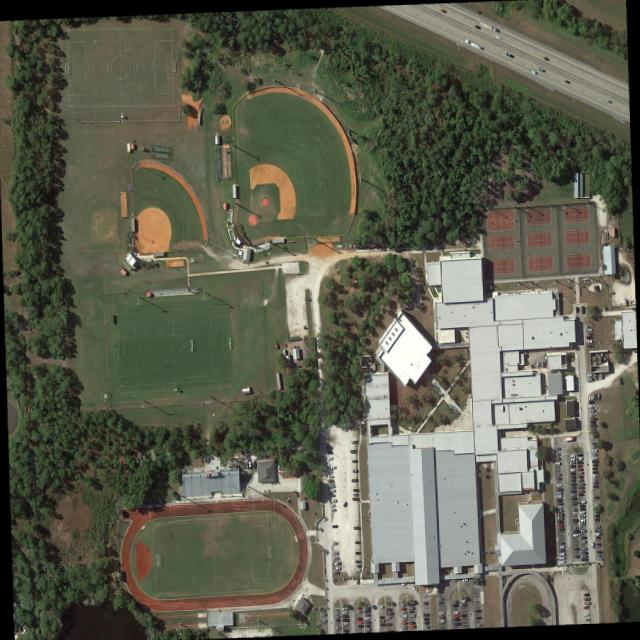large-vehicle: (463, 36, 483, 50), (479, 19, 498, 31), (564, 435, 574, 440), (333, 560, 341, 564)
small-vehicle: (505, 50, 514, 57), (529, 67, 536, 73), (604, 97, 611, 103), (349, 438, 357, 443), (563, 77, 569, 83), (411, 584, 417, 590), (328, 497, 335, 502), (538, 66, 545, 71), (333, 564, 340, 569), (364, 607, 371, 612), (582, 595, 590, 599), (349, 448, 357, 452), (245, 460, 249, 468), (252, 459, 256, 467), (617, 375, 621, 383), (386, 610, 394, 614), (441, 7, 447, 12), (559, 554, 565, 559), (453, 598, 459, 603), (554, 455, 560, 460), (583, 611, 589, 616), (342, 500, 347, 506), (496, 33, 501, 39), (543, 55, 549, 60), (401, 612, 407, 617), (437, 595, 443, 600), (334, 609, 340, 614), (571, 499, 578, 503), (572, 517, 579, 521), (572, 524, 579, 528), (573, 528, 580, 532), (576, 455, 583, 459), (576, 459, 583, 463), (452, 609, 459, 613), (453, 616, 460, 620), (453, 620, 460, 624), (450, 577, 457, 581), (555, 486, 562, 490), (556, 497, 563, 501), (582, 604, 589, 608), (581, 549, 588, 553), (580, 534, 587, 538), (580, 538, 587, 542), (592, 494, 599, 498), (581, 556, 588, 560), (590, 440, 597, 444), (590, 443, 597, 447), (591, 454, 598, 458), (460, 612, 467, 616), (328, 483, 335, 487), (351, 467, 358, 471), (351, 477, 358, 481), (352, 487, 359, 491), (352, 495, 359, 499), (354, 558, 361, 562), (331, 523, 338, 527), (587, 376, 594, 380), (401, 623, 408, 627), (423, 619, 430, 623), (332, 555, 339, 559), (379, 621, 386, 625), (356, 615, 363, 619), (599, 371, 603, 377), (570, 484, 576, 488), (570, 474, 576, 478), (570, 470, 576, 474), (570, 466, 576, 470), (569, 459, 575, 463), (569, 456, 575, 460), (569, 452, 575, 456), (570, 488, 576, 492), (571, 495, 577, 499), (571, 506, 577, 510), (572, 532, 578, 536), (574, 553, 580, 557), (577, 463, 583, 467), (558, 525, 564, 529), (459, 598, 465, 602), (475, 614, 481, 618), (555, 482, 561, 486), (556, 493, 562, 497), (557, 515, 563, 519), (577, 473, 583, 477), (594, 516, 600, 520), (594, 523, 600, 527), (595, 531, 601, 535), (590, 539, 593, 547), (595, 534, 601, 538), (583, 599, 589, 603), (584, 616, 590, 620), (578, 484, 584, 488), (578, 491, 584, 495), (579, 502, 585, 506), (579, 509, 585, 513), (579, 517, 585, 521), (580, 527, 586, 531), (581, 545, 587, 549), (591, 447, 597, 451), (591, 451, 597, 455), (592, 458, 598, 462), (592, 462, 598, 466), (592, 476, 598, 480), (593, 483, 599, 487), (438, 617, 444, 621), (590, 422, 596, 426), (590, 433, 596, 437), (327, 449, 333, 453), (327, 473, 333, 477), (589, 411, 595, 415), (354, 539, 360, 543), (356, 563, 362, 567), (590, 415, 596, 419), (585, 323, 591, 327), (249, 460, 252, 468), (586, 330, 592, 334), (586, 334, 592, 338), (587, 342, 593, 346), (386, 606, 392, 610), (409, 623, 415, 627), (409, 612, 415, 616), (401, 609, 407, 613), (400, 601, 406, 605), (379, 614, 385, 618), (423, 616, 429, 620), (423, 623, 429, 627), (438, 585, 444, 589), (438, 610, 444, 614), (386, 621, 392, 625), (333, 550, 339, 554), (342, 617, 348, 621), (319, 607, 325, 611), (334, 606, 340, 610), (335, 624, 341, 628), (342, 620, 348, 624), (342, 613, 348, 617), (364, 626, 370, 630), (363, 612, 371, 615), (363, 615, 369, 619), (357, 619, 363, 623), (356, 608, 362, 612), (364, 604, 370, 608), (569, 492, 576, 495), (573, 546, 580, 549), (576, 452, 583, 455), (554, 446, 561, 449), (594, 527, 601, 530), (593, 502, 600, 505), (581, 553, 588, 556), (353, 525, 360, 528), (585, 327, 592, 330), (542, 359, 545, 366), (536, 359, 539, 366), (594, 392, 597, 399), (330, 507, 337, 510), (379, 618, 386, 621), (364, 619, 371, 622), (571, 481, 576, 485), (559, 551, 564, 555), (559, 547, 564, 551), (462, 576, 467, 580), (557, 504, 562, 508), (596, 509, 601, 513), (592, 465, 597, 469), (453, 602, 458, 606), (352, 458, 357, 462), (327, 455, 332, 459), (330, 464, 335, 468), (475, 24, 480, 28), (587, 338, 592, 342), (588, 395, 593, 399), (386, 613, 391, 617), (402, 616, 407, 620), (408, 608, 413, 612), (408, 605, 413, 609), (409, 601, 414, 605), (401, 580, 406, 584), (423, 600, 428, 604), (437, 581, 442, 585), (438, 599, 443, 603), (320, 611, 325, 615), (335, 613, 340, 617), (342, 609, 347, 613), (570, 463, 576, 466), (559, 559, 565, 562), (571, 510, 577, 513), (577, 466, 583, 469), (558, 544, 564, 547), (559, 540, 565, 543), (554, 451, 560, 454), (460, 602, 466, 605), (453, 613, 459, 616), (475, 608, 481, 611), (557, 522, 563, 525), (555, 475, 561, 478), (556, 490, 562, 493), (557, 501, 563, 504), (557, 508, 563, 511), (557, 512, 563, 515), (557, 519, 563, 522), (577, 470, 583, 473), (596, 549, 602, 552), (583, 592, 589, 595), (594, 513, 600, 516), (578, 488, 584, 491), (579, 499, 585, 502), (579, 506, 585, 509), (579, 513, 585, 516), (592, 469, 598, 472), (592, 473, 598, 476), (593, 480, 599, 483), (590, 419, 596, 422), (590, 426, 596, 429), (327, 445, 333, 448), (328, 478, 334, 481), (355, 550, 361, 553), (329, 503, 335, 506), (589, 407, 595, 410), (588, 403, 594, 406), (586, 372, 592, 375), (588, 399, 594, 402), (332, 541, 338, 544), (438, 614, 444, 617), (402, 620, 408, 623), (409, 620, 415, 623), (423, 612, 429, 615), (333, 570, 339, 573), (320, 618, 326, 621), (341, 606, 347, 609), (357, 623, 363, 626), (356, 605, 362, 608), (555, 460, 559, 464), (264, 259, 268, 263), (336, 617, 340, 621), (571, 478, 576, 481), (476, 622, 481, 625), (555, 472, 560, 475), (578, 477, 583, 480), (596, 542, 601, 545), (597, 556, 602, 559), (578, 481, 583, 484), (580, 521, 585, 524), (329, 488, 334, 491), (353, 492, 358, 495), (355, 567, 360, 570), (330, 493, 335, 496), (401, 606, 406, 609), (378, 604, 383, 607), (438, 589, 443, 592), (365, 623, 370, 626), (594, 372, 596, 379), (597, 392, 599, 399), (356, 576, 358, 583), (597, 553, 601, 556)
